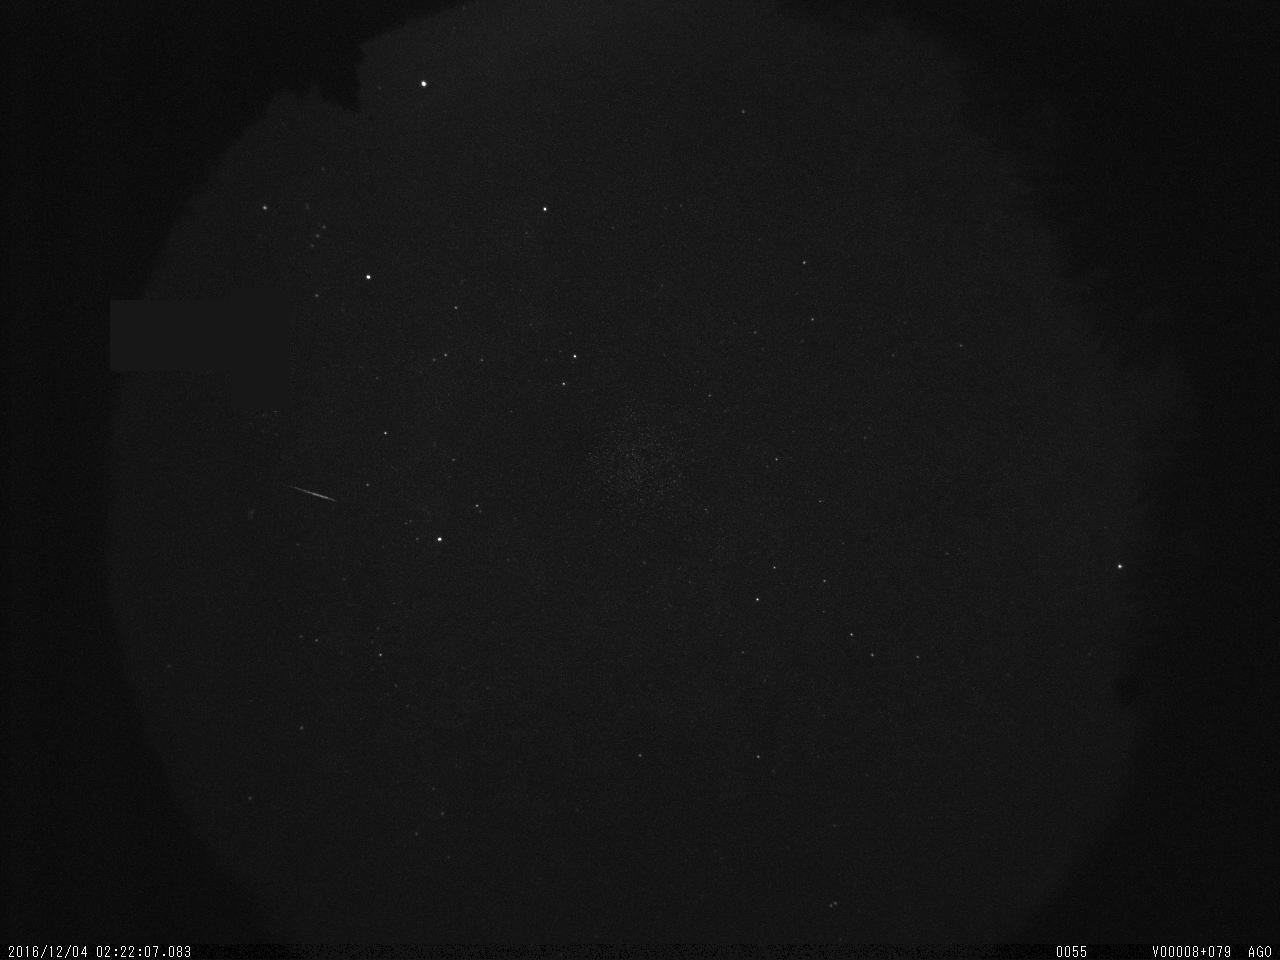Meteor: (289, 482, 336, 501)
